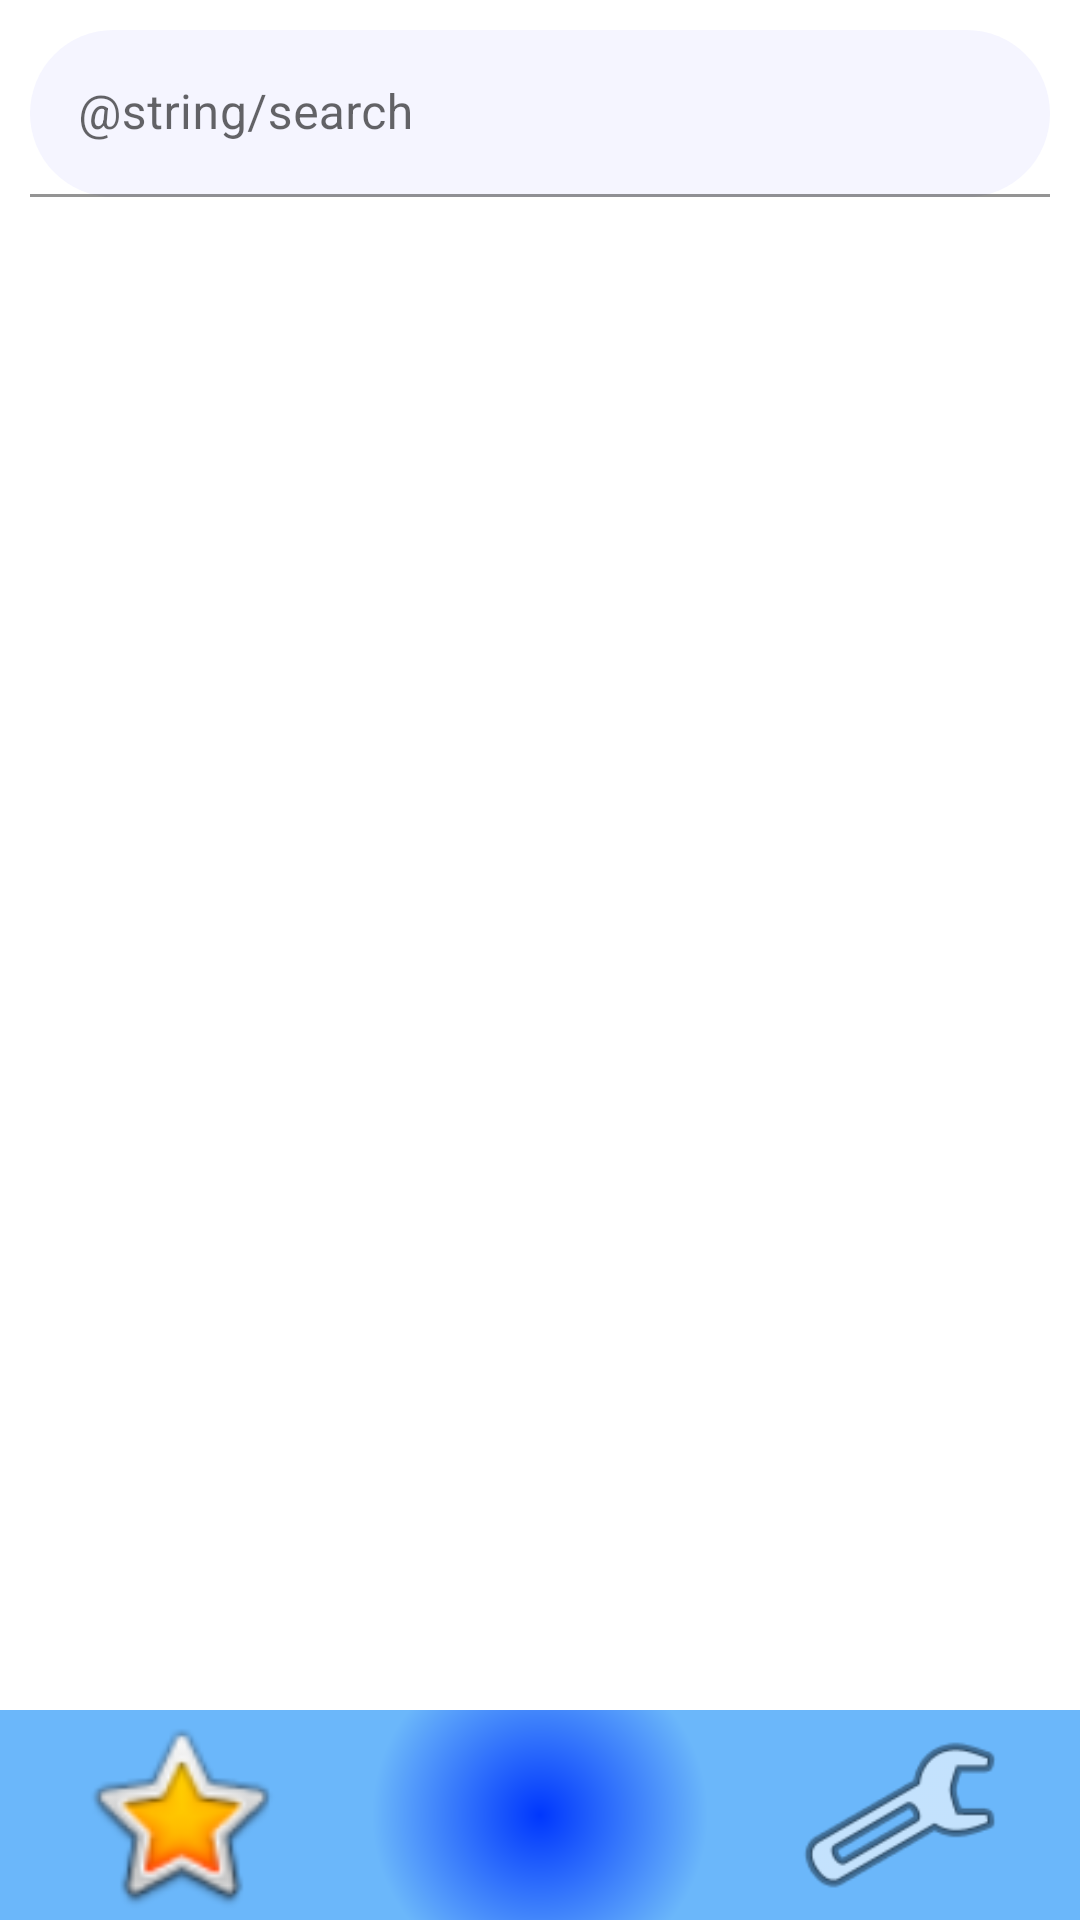

Icon bounding boxes for this 1080w x 1920h phone screenshot, format (x1, y1, x2, y2):
manage: (805, 1743, 995, 1887)
star on: (94, 1731, 270, 1902)
